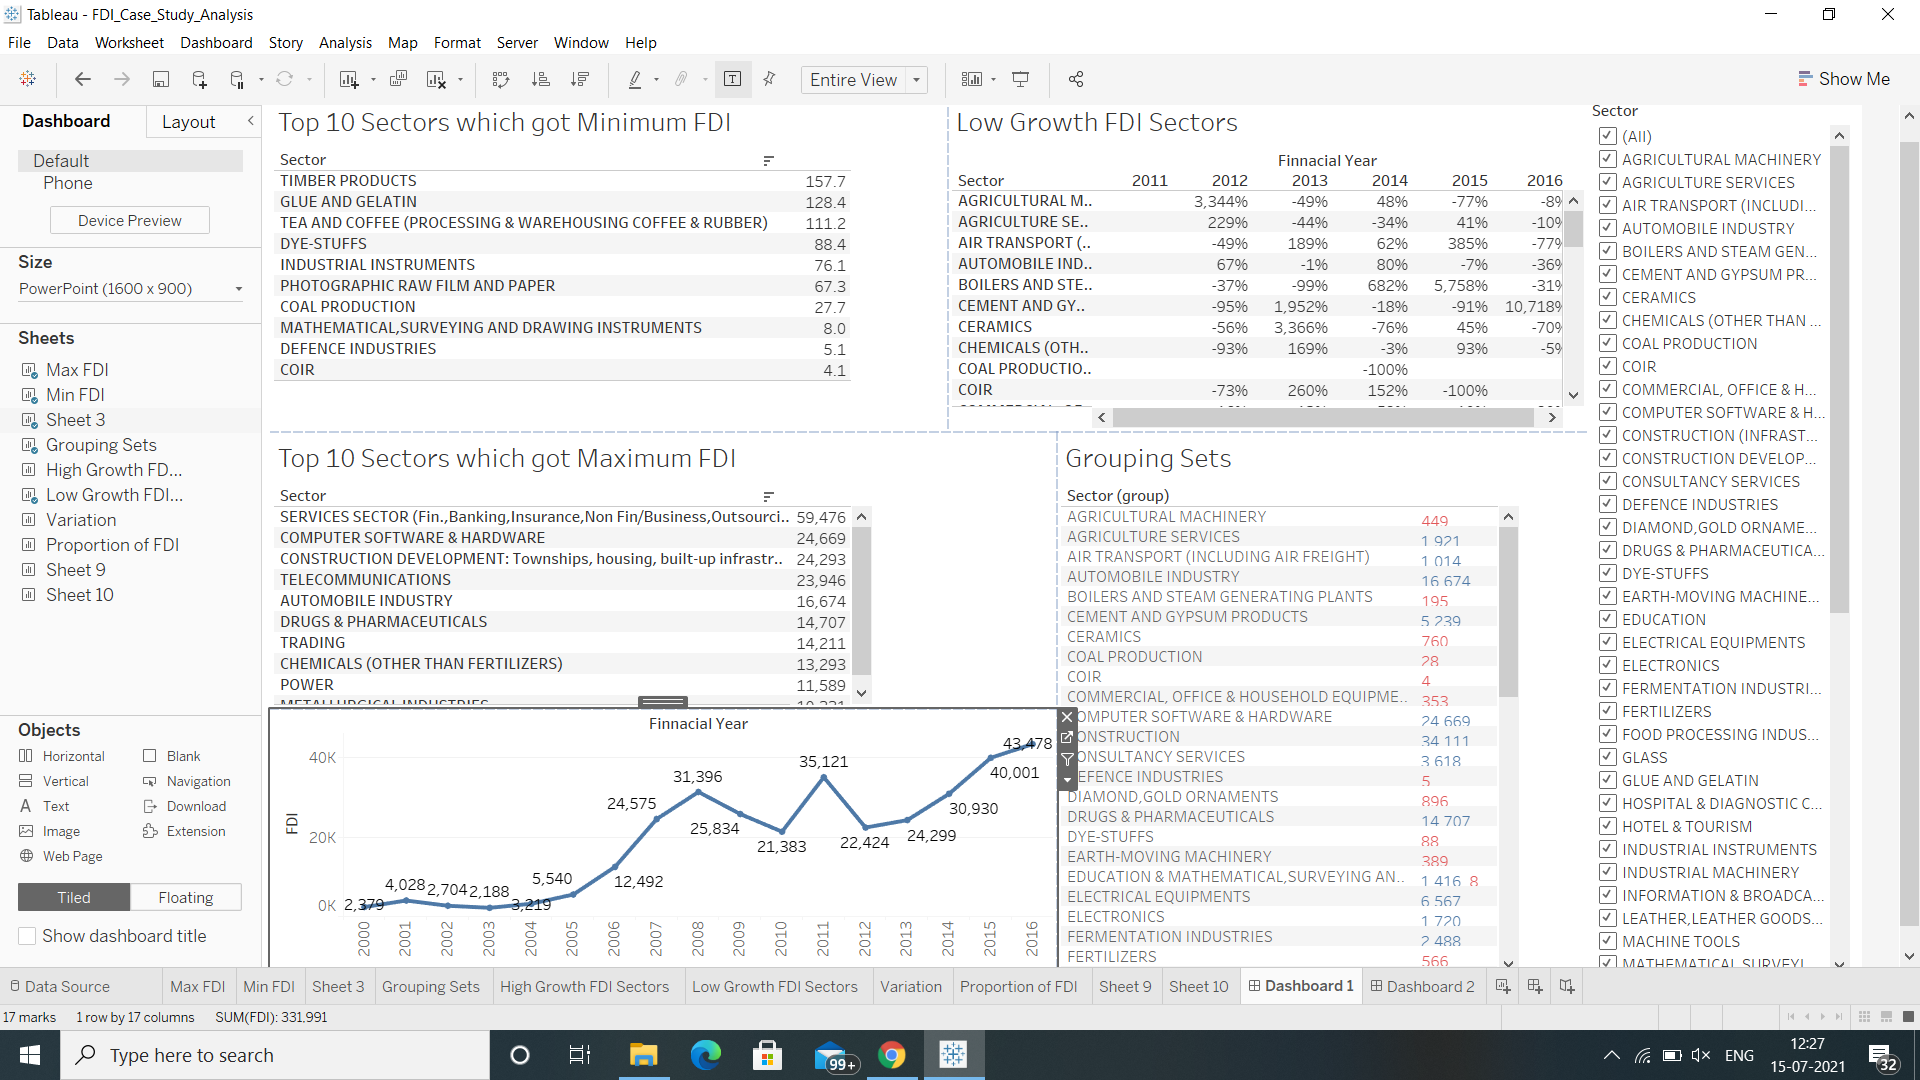

What the dashboard file says about the page in this screenshot:
{"tool":"tableau","page":{"name":"Dashboard 1","canvas":[1600,900],"ordinal":0},"visuals":[{"type":"worksheet","box":[0,0,1600,900]},{"type":"worksheet","param":"horz","box":[8,8,1584,884]},{"type":"worksheet","param":"horz","box":[8,8,1318,884]},{"type":"worksheet","box":[8,8,1318,884]},{"type":"worksheet","title":"Min FDI","mark":"Automatic","rows":["Sector"],"box":[8,8,677.7,336]},{"type":"worksheet","title":"Low Growth FDI Sectors","mark":"Automatic","rows":["Sector"],"cols":["Calculation_318066766569017344"],"box":[685.7,8,640.3,336]},{"type":"worksheet","param":"vert","box":[1326,8,266,884]},{"type":"worksheet","title":"Sheet 3","mark":"Automatic","rows":["Pivot Field Values"],"cols":["Calculation_318066766569017344"],"param":"[federated.1s7l4rr1wghr240zq81151jmb1wz].[none:Sector:nk]","box":[1326,8,266,884]},{"type":"worksheet","title":"Max FDI","mark":"Automatic","rows":["Sector"],"box":[8,344,786.9,277.4]},{"type":"worksheet","title":"Grouping Sets","mark":"Automatic","box":[794.9,344,531.1,548]},{"type":"worksheet","title":"Sheet 3","mark":"Automatic","rows":["Pivot Field Values"],"cols":["Calculation_318066766569017344"],"box":[8,621.4,786.9,270.6]}]}

Visuals, with their boxes on the page's 1600x900 design canvas (x1, y1, x2, y2). These are canvas units, not pixel positions in the 1920x1080 screenshot, which may show the page scaled, cropped or inside an application window:
worksheet: <region>0, 0, 1600, 900</region>
worksheet: <region>8, 8, 1592, 892</region>
worksheet: <region>8, 8, 1326, 892</region>
worksheet: <region>8, 8, 1326, 892</region>
"Min FDI" worksheet: <region>8, 8, 686, 344</region>
"Low Growth FDI Sectors" worksheet: <region>686, 8, 1326, 344</region>
worksheet: <region>1326, 8, 1592, 892</region>
"Sheet 3" worksheet: <region>1326, 8, 1592, 892</region>
"Max FDI" worksheet: <region>8, 344, 795, 621</region>
"Grouping Sets" worksheet: <region>795, 344, 1326, 892</region>
"Sheet 3" worksheet: <region>8, 621, 795, 892</region>
